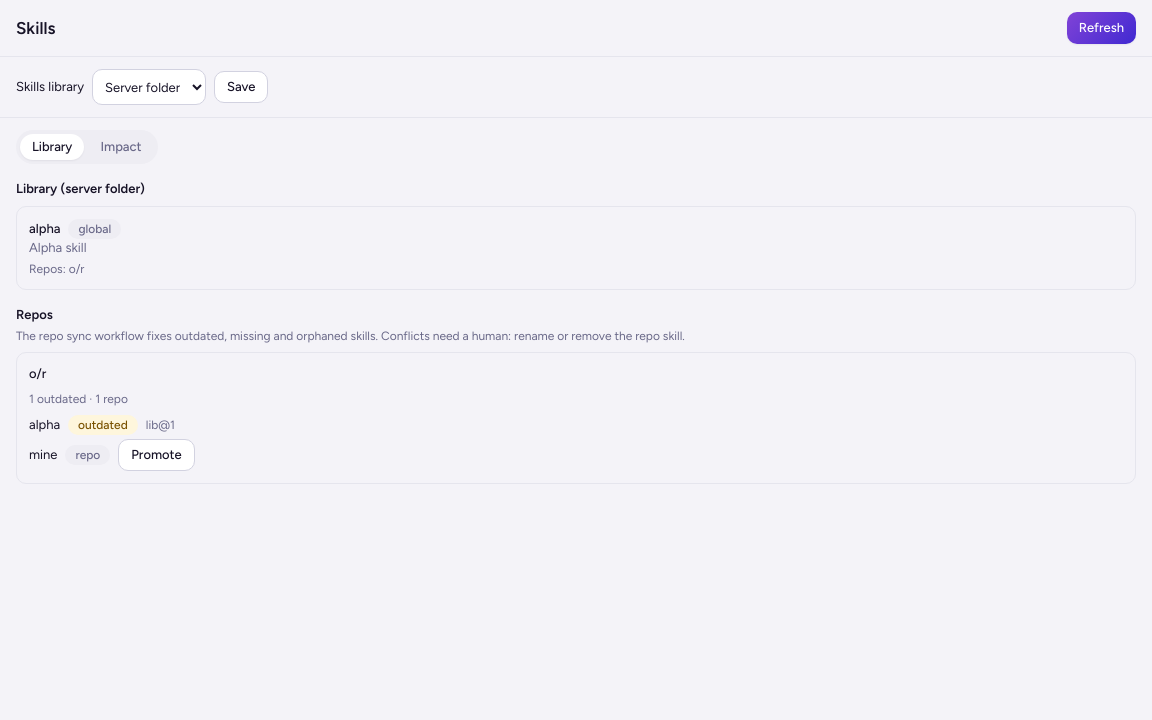
Test: SkillsView › offers Promote on repo-owned skills only, and shows the created jobs after promoting
Check: the text "mine" is shown, box [29,446,57,464]
Click the button with aria-label "Promote mine" at (156,455), box [118,439,195,471]
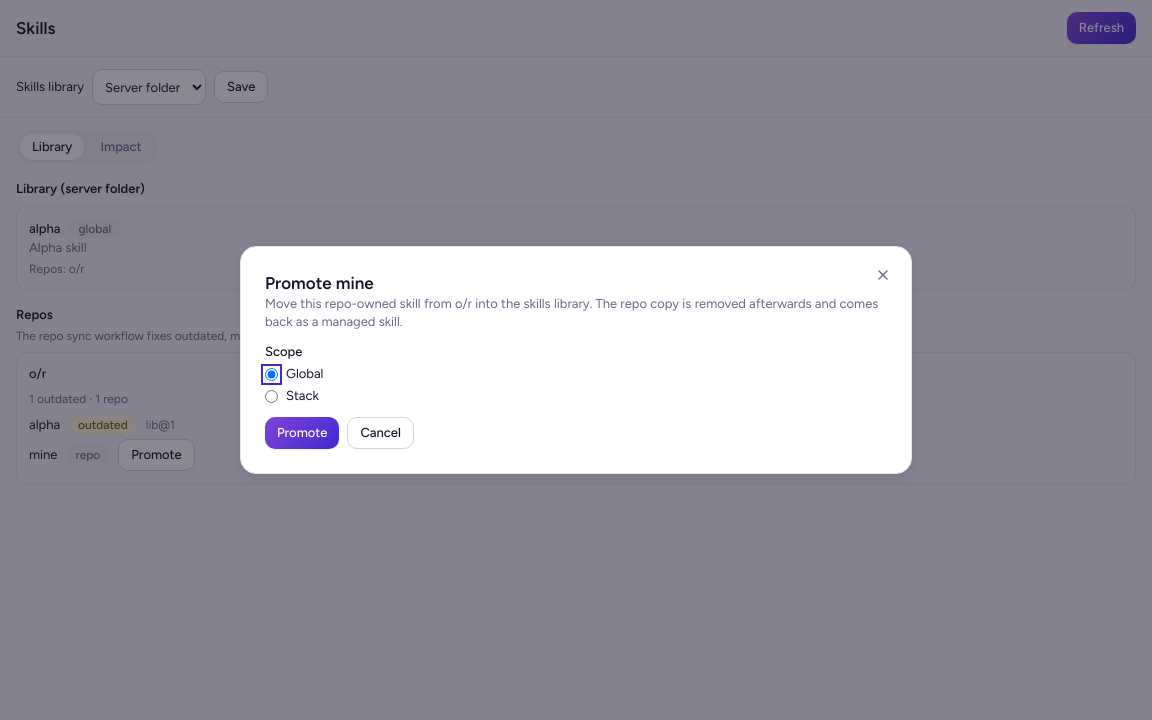
Click the radio button labelled "Stack" at (272,396), box [265,390,278,402]
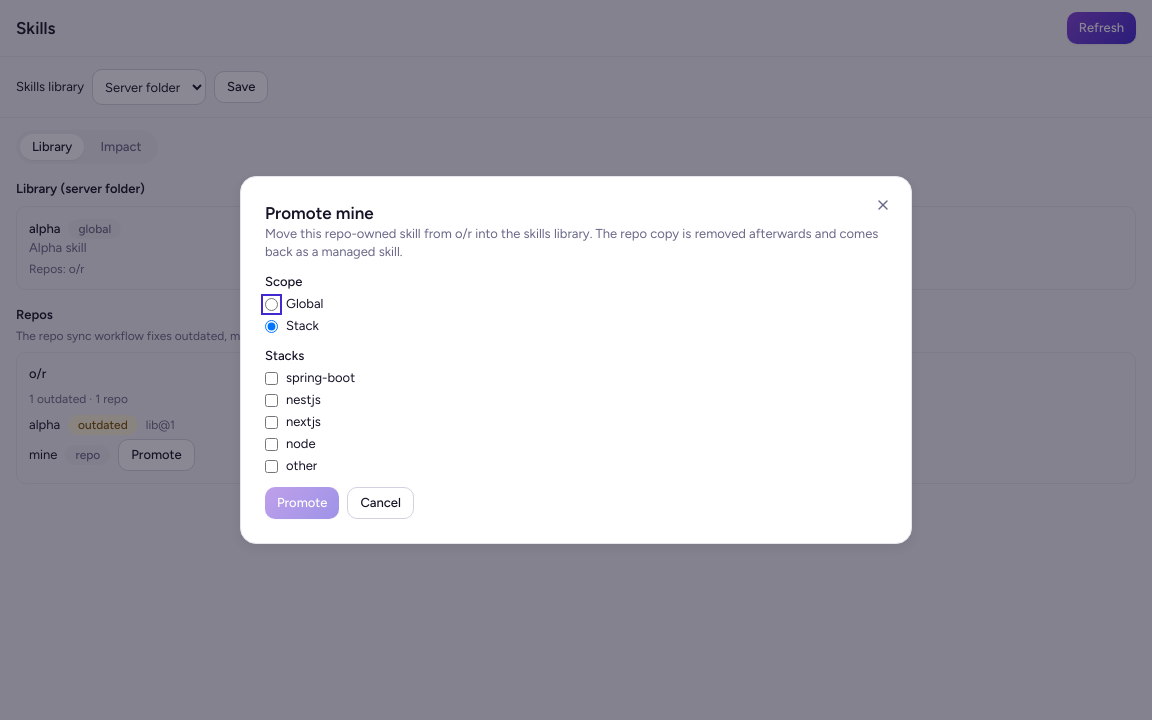
Check: the button "Promote" is disabled, box [265,487,339,519]
Click the checkbox labelled "nestjs" at (272,400), box [265,394,278,406]
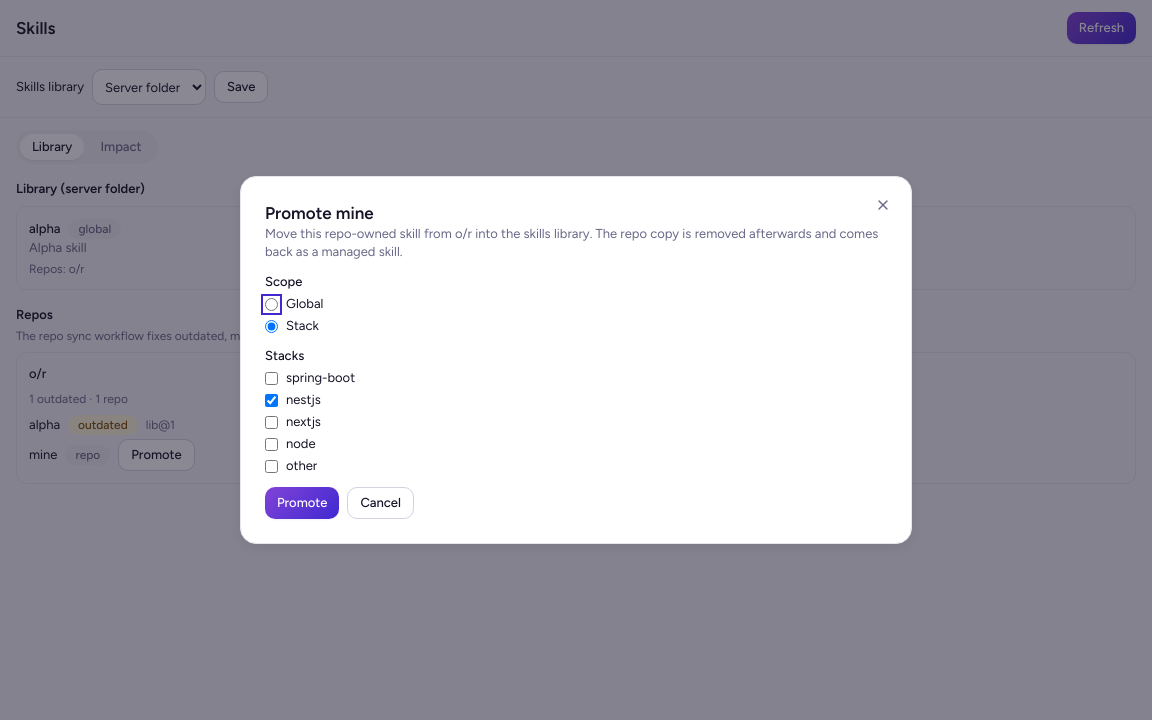
Click the checkbox labelled "nextjs" at (272,422), box [265,416,278,428]
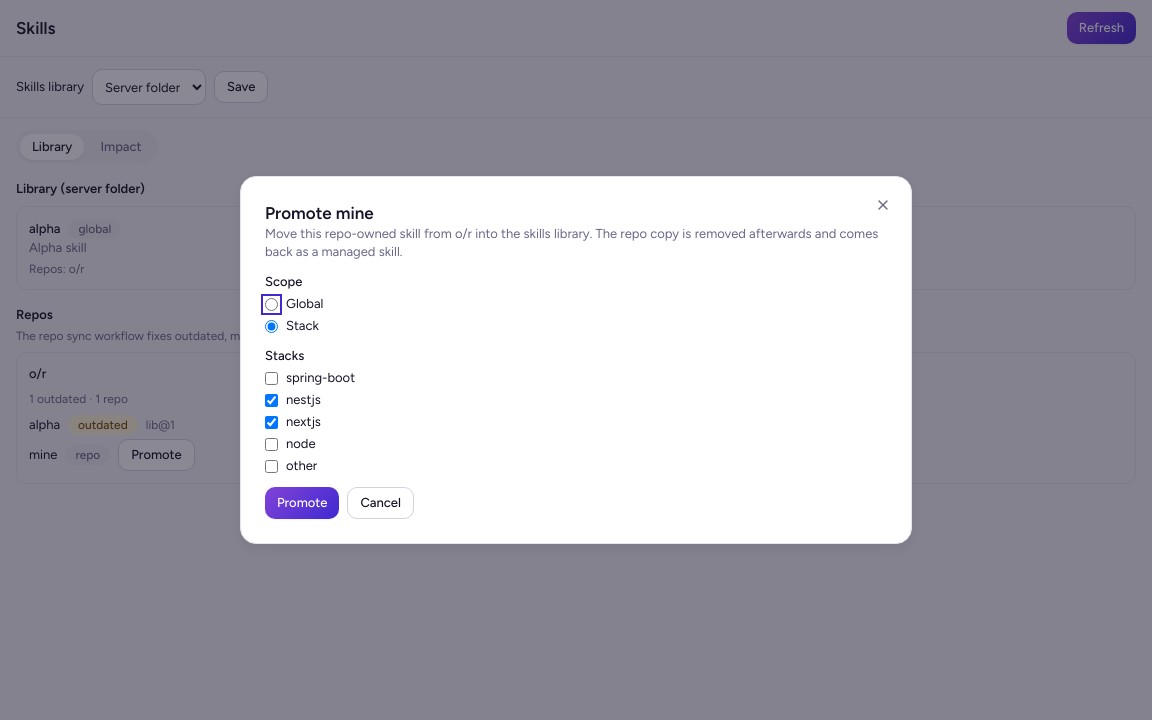
Click the button "Promote" at (302,503), box [265,487,339,519]
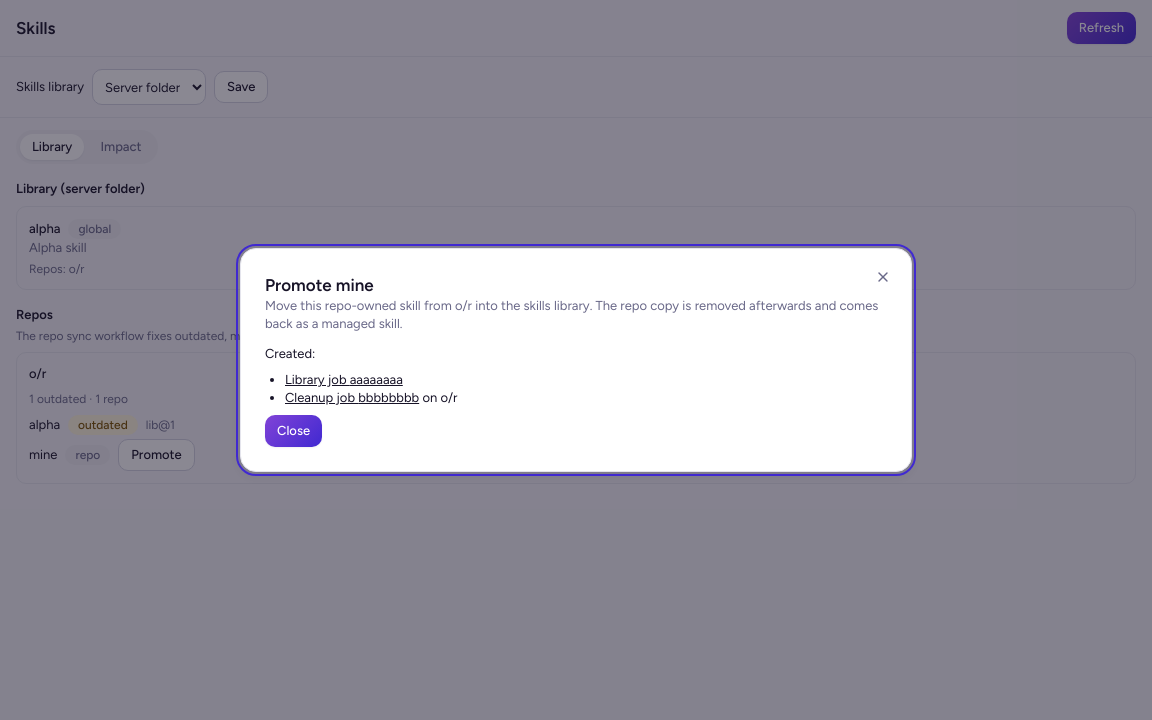
Check: the link "Library job aaaaaaaa" is shown, box [285,372,403,387]
